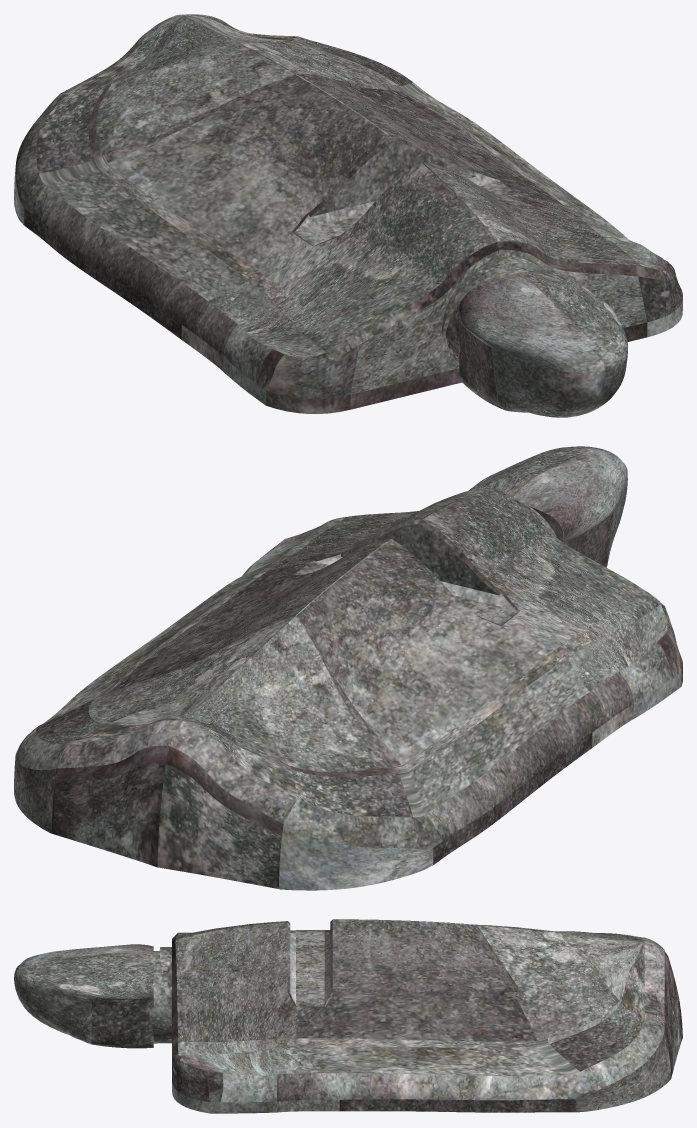
File: 01. 석조여래귀부 비신x.fbx
The picture shows the model from 3 angles, top to bottom: view 1: azimuth 30°, elevation 25°; view 2: azimuth 150°, elevation 25°; view 3: azimuth 270°, elevation 25°; orthographic projection. The views are drawn at different scales.
Visible parts, largest first — view 1: Layer 02; view 2: Layer 02; view 3: Layer 02.
Part boxes in pixels (x1=…): Layer 02: x1=14, y1=14, x2=682, y2=417; Layer 02: x1=14, y1=446, x2=682, y2=890; Layer 02: x1=14, y1=919, x2=682, y2=1113.
Size of the model in its own units: 2716 by 990 by 5034.
1 material, 1 textured.
